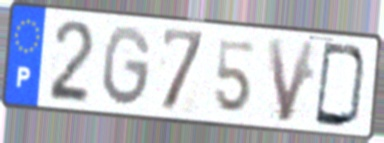2: (48, 18, 97, 107)
5: (211, 36, 257, 115)
7: (160, 26, 207, 116)
D: (312, 39, 370, 131)
G: (101, 23, 154, 110)
V: (264, 36, 319, 125)
